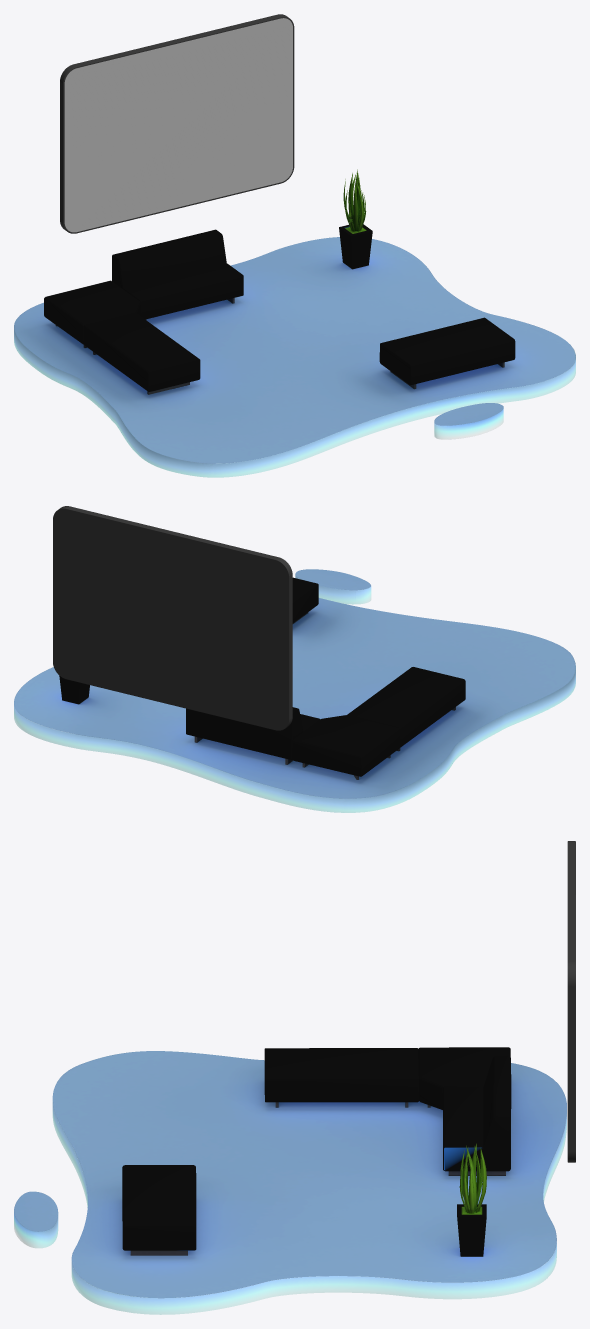
File: LeviBook_Set.glb
3 renders of one model, top to bottom at view 1: azimuth 30°, elevation 25°; view 2: azimuth 150°, elevation 25°; view 3: azimuth 270°, elevation 25°, orthographic. The views are drawn at different scales.
Visible parts, largest first — view 1: Base, VideoWall, Chairs, Scframe, Leafs; view 2: Base, Scframe, Chairs; view 3: Base, Chairs, Scframe, Leafs.
Part boxes in pixels (x1,y1,x2,y2): Base: (14, 237, 575, 477); VideoWall: (64, 18, 292, 232); Chairs: (44, 224, 515, 391); Scframe: (60, 14, 294, 233); Leafs: (343, 169, 366, 233); Base: (14, 569, 575, 812); Scframe: (53, 506, 292, 730); Chairs: (59, 577, 465, 776); Base: (14, 1051, 566, 1314); Chairs: (122, 1047, 511, 1256); Scframe: (567, 841, 575, 1162); Leafs: (459, 1143, 486, 1214).
Size of the model in its own units: 7.03 by 3.8 by 6.75.
Materials: 7 (5 with a texture image).
